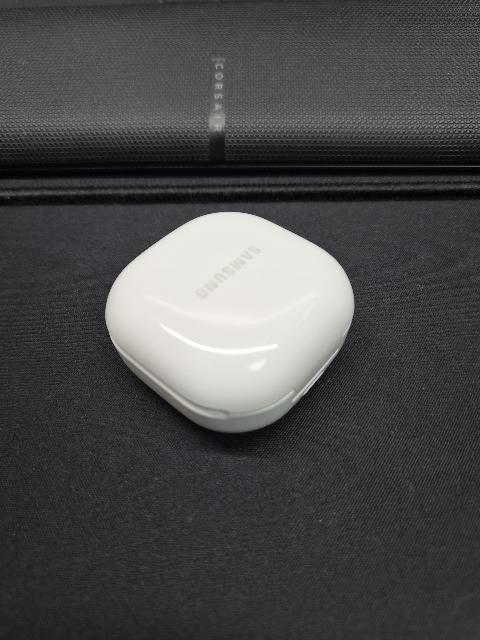earphone_case: (104, 211, 354, 434)
